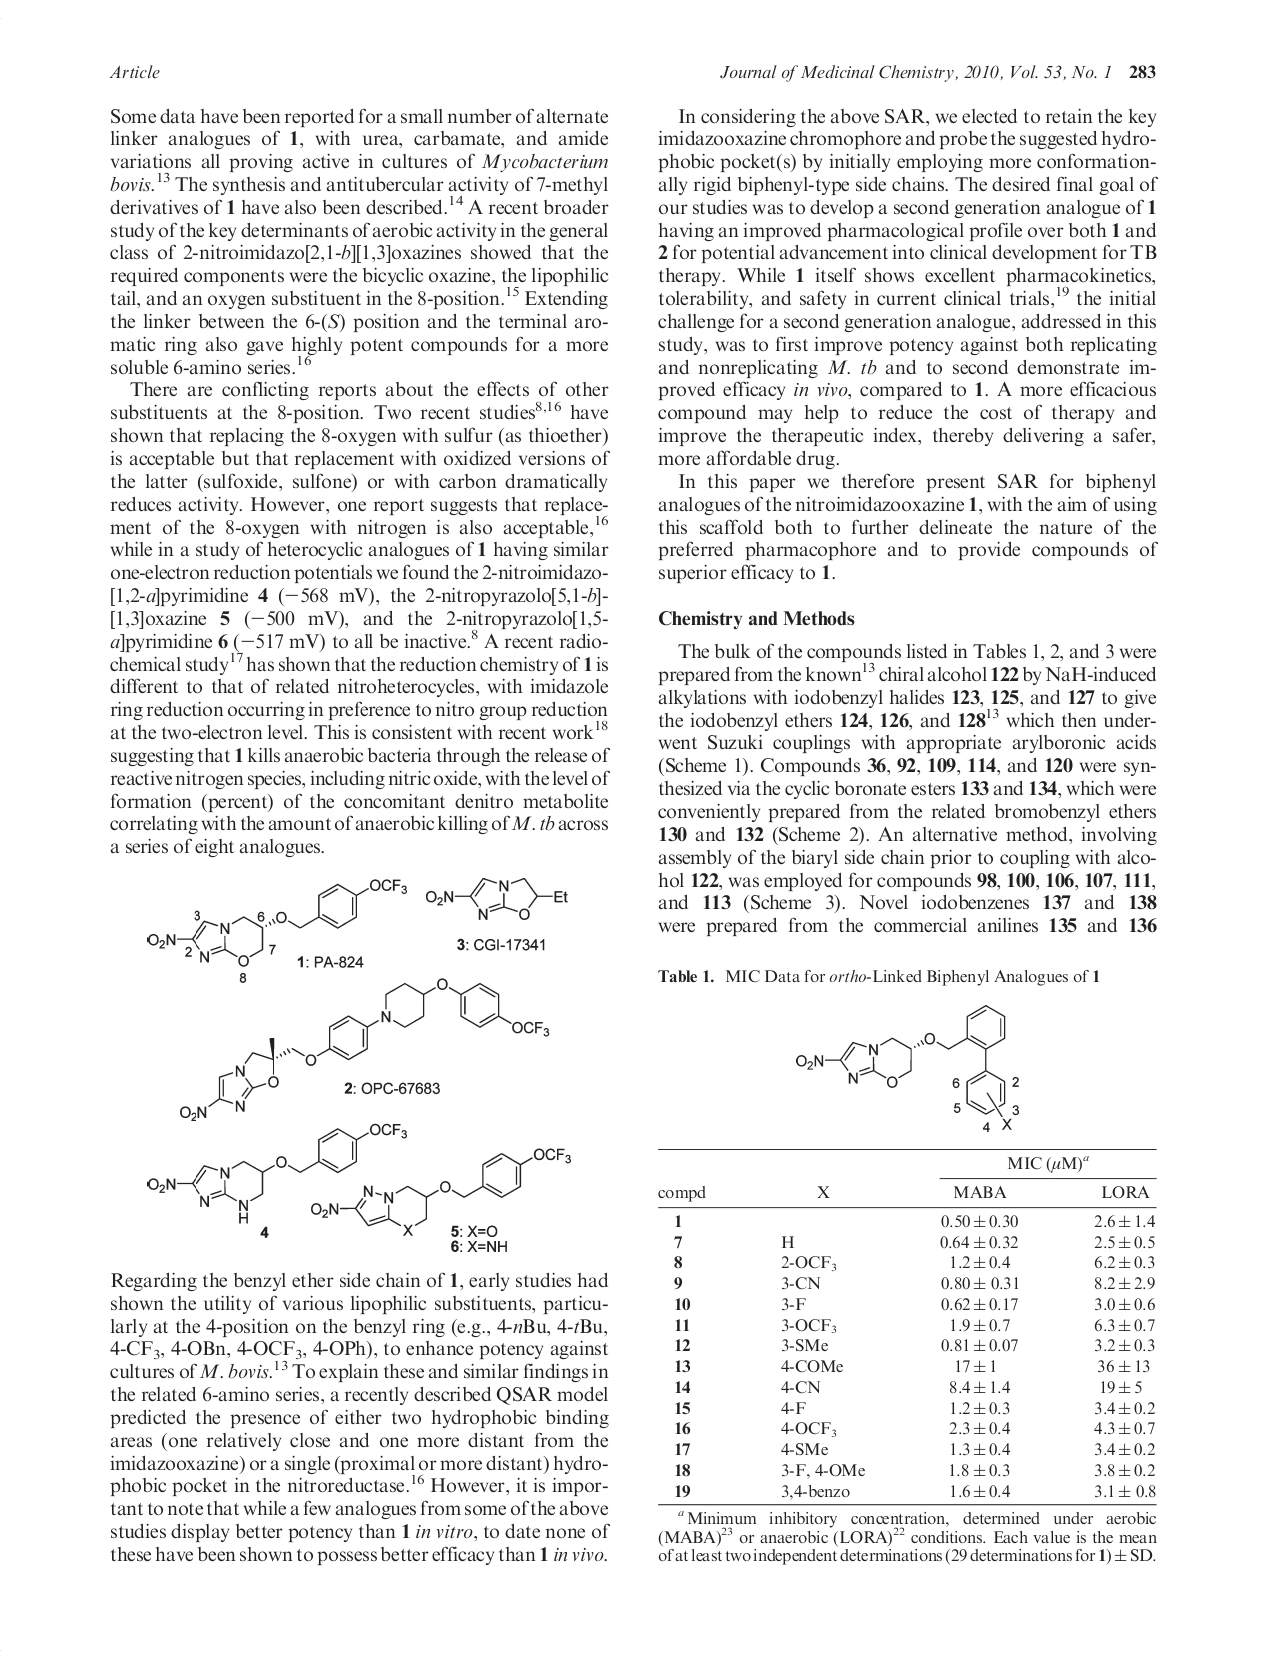exist_molecular: (181, 977, 552, 1122), (793, 1001, 1013, 1132), (146, 1120, 410, 1226), (309, 1145, 574, 1239), (148, 875, 410, 968), (426, 876, 570, 922)
